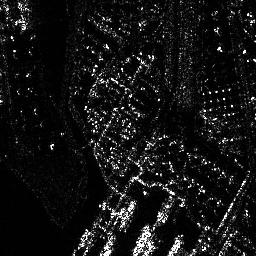ship: (131, 224, 151, 256), (119, 200, 137, 231)
